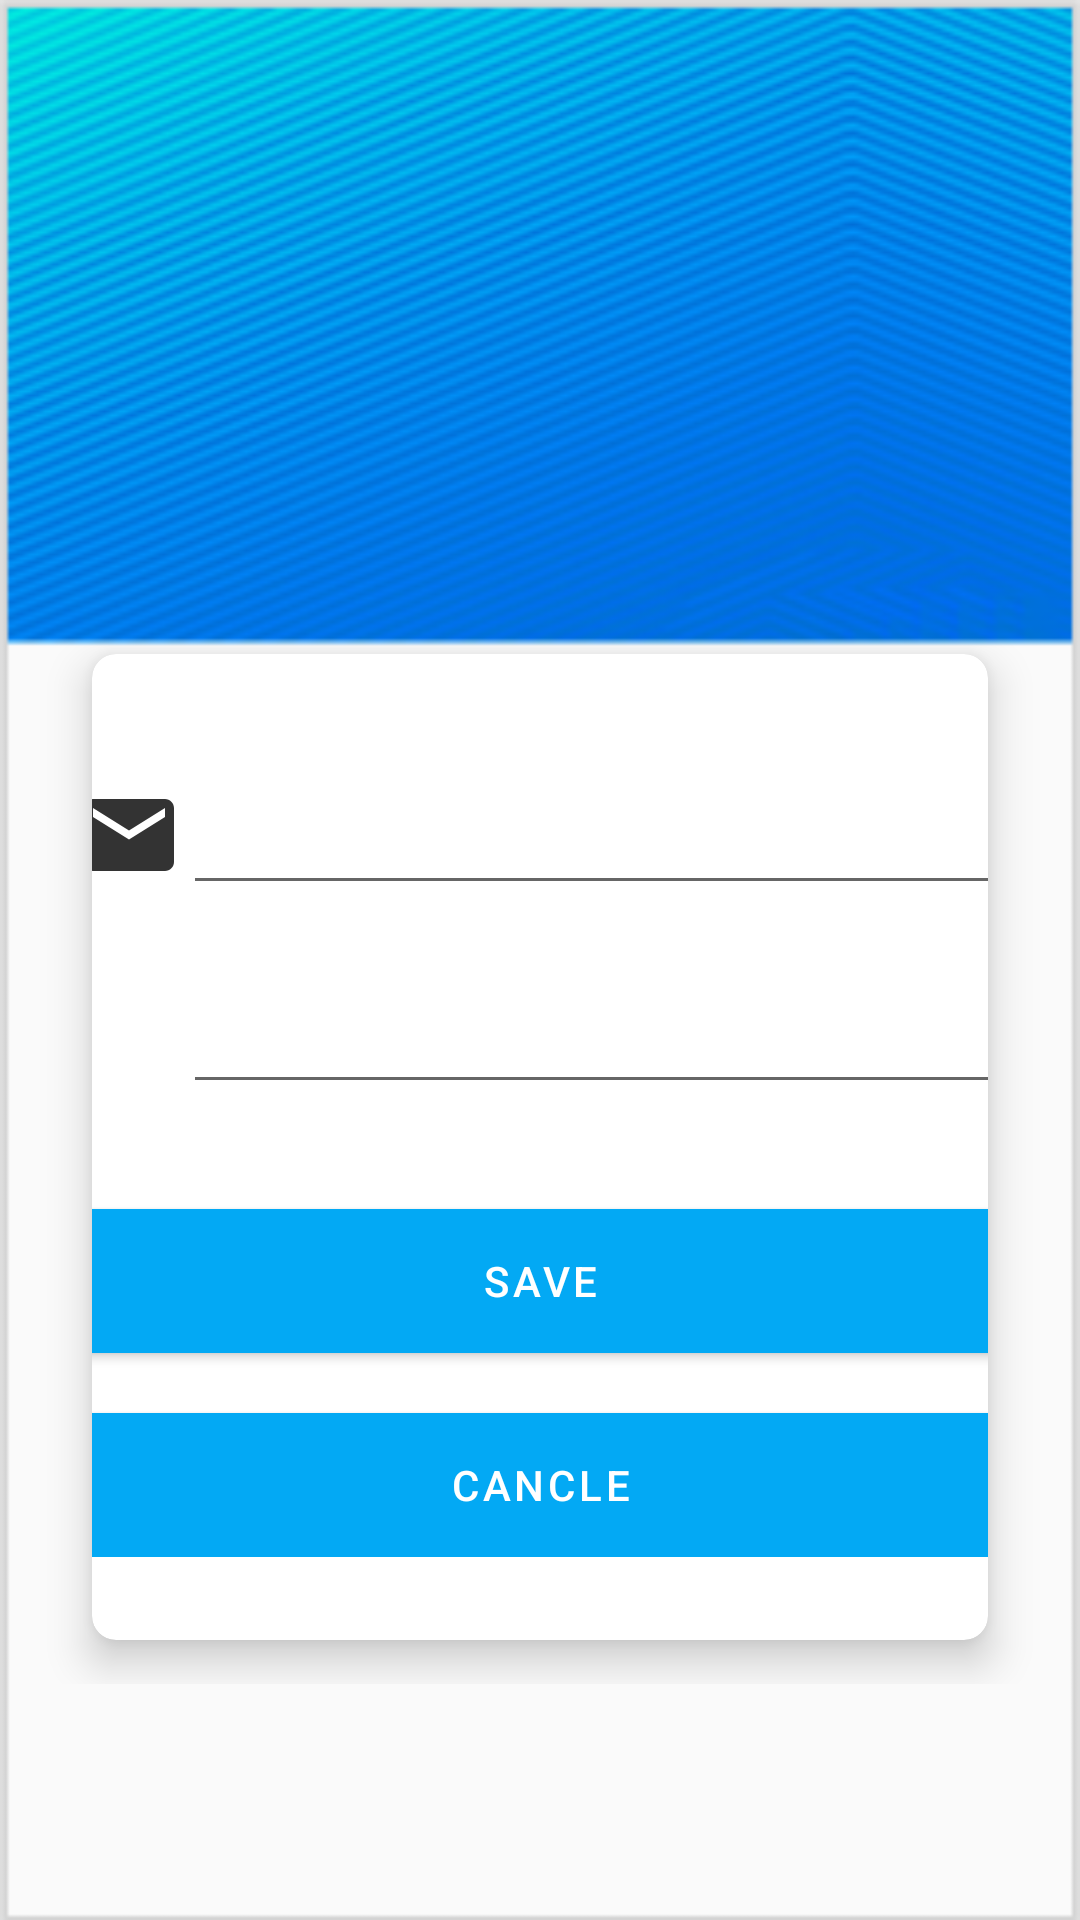

Named icons in this screenshot (1080 × 1920) and their bounding boxes, rect(x1, y1, x2, y2):
email: rect(86, 781, 174, 889)
